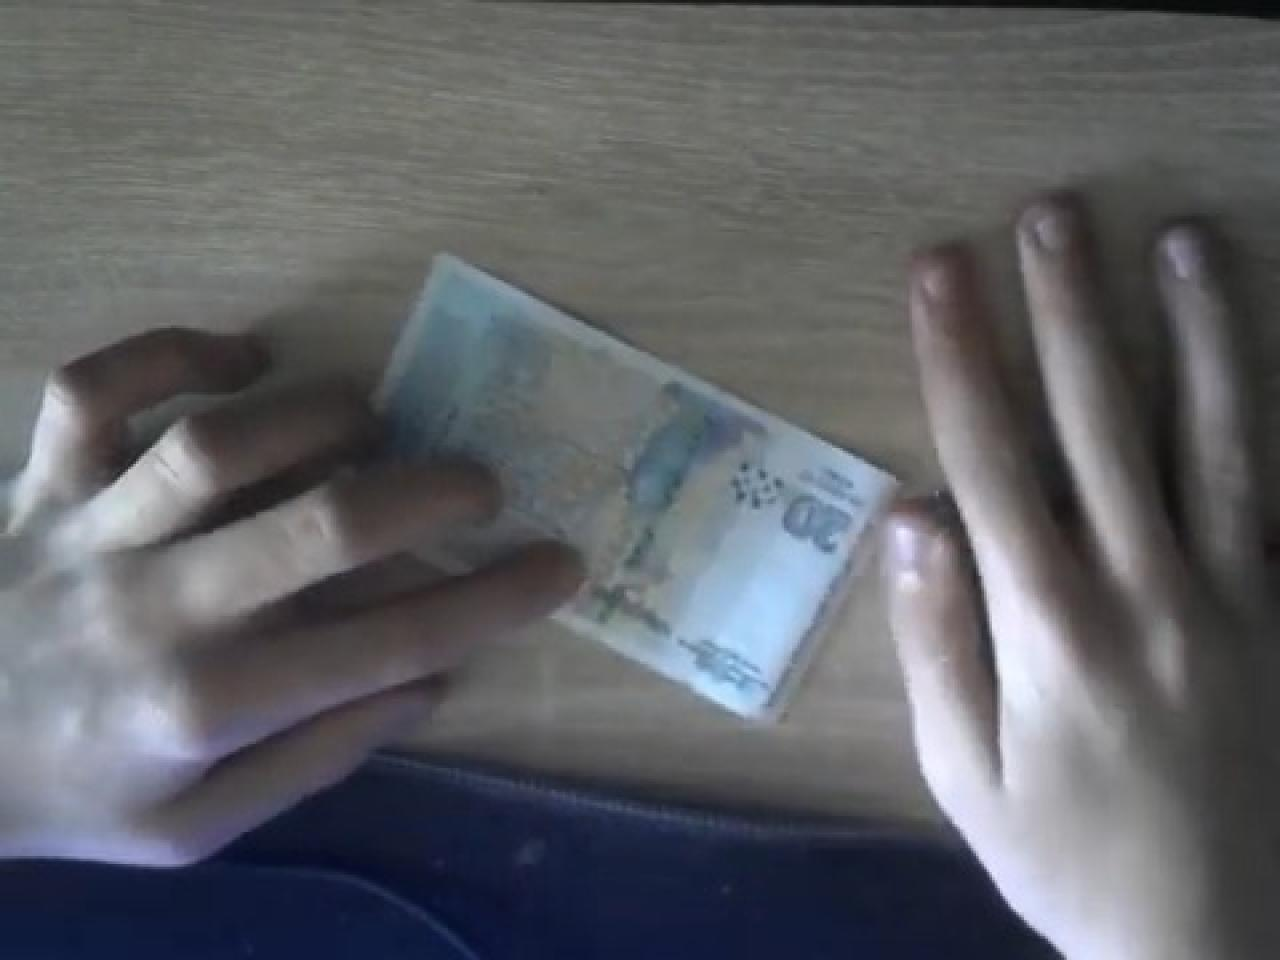20leva: (363, 250, 904, 730)
